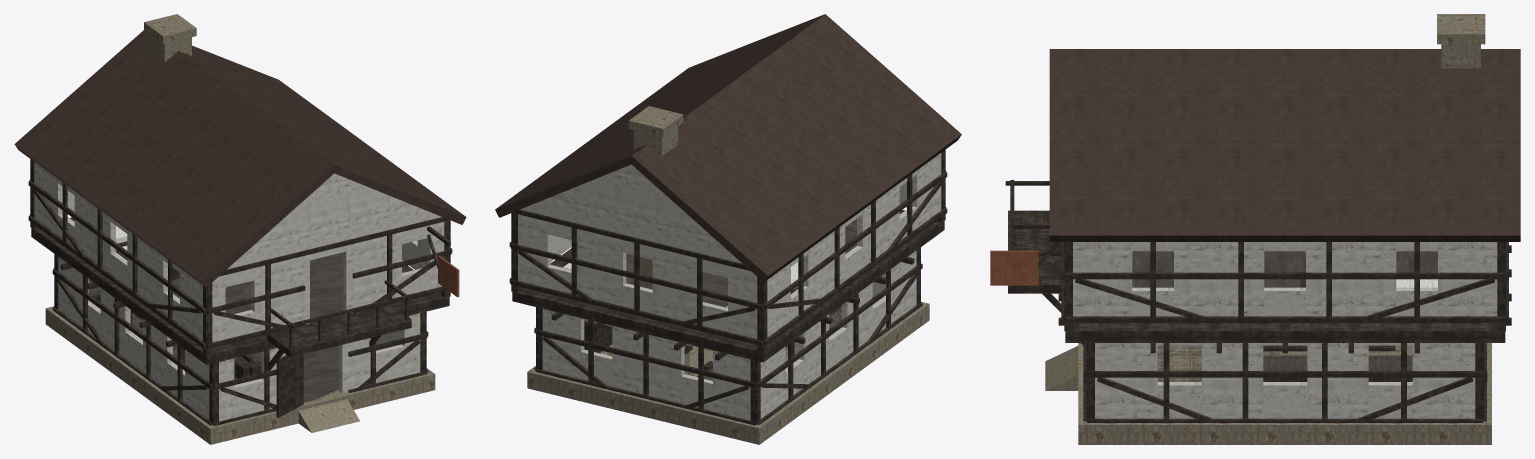
File: prop_inn.glb
The picture shows the model from 3 angles, left to right: view 1: azimuth 30°, elevation 25°; view 2: azimuth 150°, elevation 25°; view 3: azimuth 270°, elevation 25°; orthographic projection. The views are drawn at different scales.
Visible parts, largest first — view 1: prop_inn; view 2: prop_inn; view 3: prop_inn.
Boxes of the visible parts, x1,y1,x2,y2 form: prop_inn: (14, 14, 466, 444); prop_inn: (495, 14, 961, 444); prop_inn: (990, 14, 1520, 444).
Bounding box in the file's own units: 8.7 × 8.82 × 12.05.
8 materials, 8 textured.
